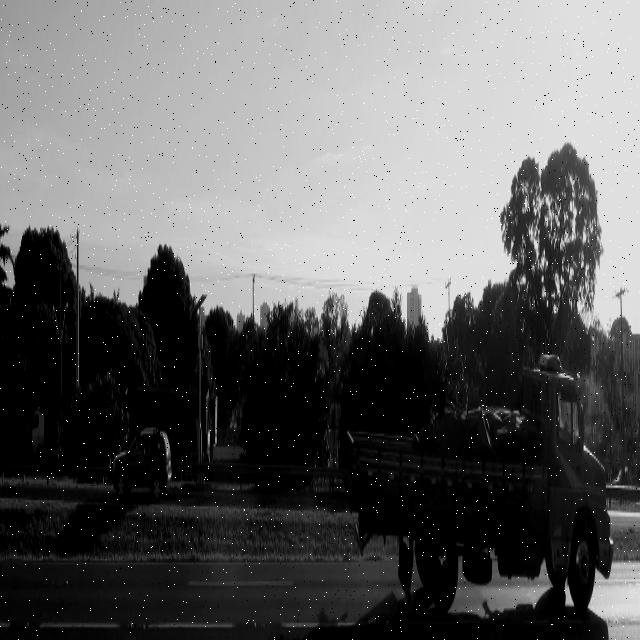-axle: (431, 520, 458, 612), (571, 527, 594, 610)
